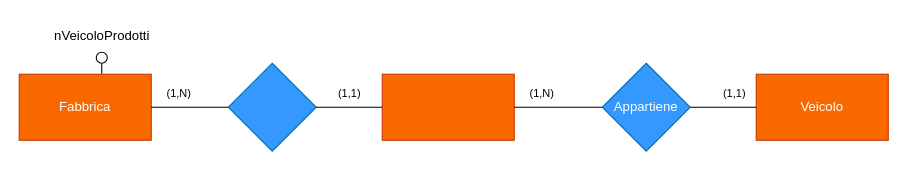
Image size: 908x171. Some labels were removed from this diagram. Here are the shapes that lost their labels. From the top down, the centre of each, then its label:
At [271,106]: "Prodotto".
At [447,106]: "Modello".
